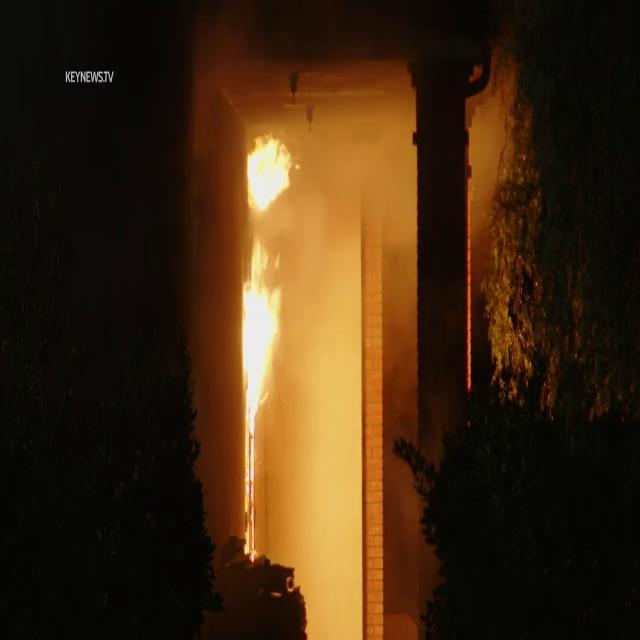Fire: (234, 137, 300, 464)
